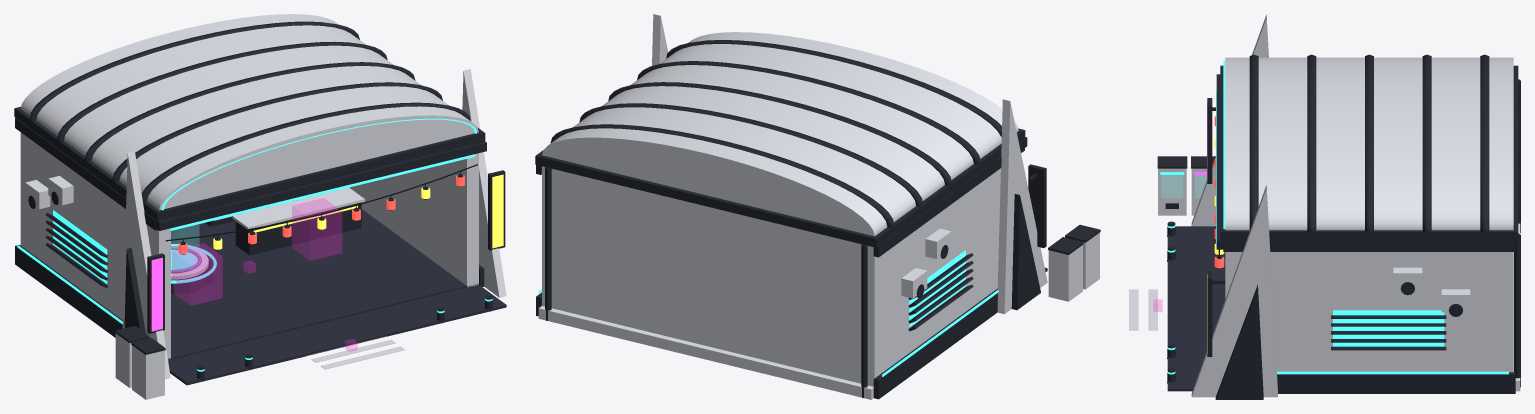
The model's file is AAT_UnitHangar.glb.
3 views of the same model, side by side, from view 1: azimuth 30°, elevation 25°; view 2: azimuth 150°, elevation 25°; view 3: azimuth 270°, elevation 25° (orthographic). The views are drawn at different scales.
Parts seen in each view (by area): view 1: UnitHangarDeco__pearl, Floor_Hangar__floor, UnitHangarDeco__graphite, Wall_HangarLeft__pearl, Wall_HangarRight__pearl, Floor_HangarApron__floor, Roof_Hangar__graphite, UnitHangarDeco__bio, Wall_ItemCounter__graphite, MK_Station_Units, MK_Station_Items, UnitHangarDeco__amber (+6 smaller); view 2: UnitHangarDeco__pearl, Wall_HangarBack__pearl, UnitHangarDeco__graphite, Wall_HangarLeft__pearl, Roof_Hangar__graphite, UnitHangarDeco__bio, Wall_HangarRight__pearl; view 3: UnitHangarDeco__pearl, UnitHangarDeco__graphite, Wall_HangarRight__pearl, Floor_HangarApron__floor, UnitHangarDeco__bio, Roof_Hangar__graphite, Wall_HangarBack__pearl, UnitHangarDeco__glass.
Boxes of the visible parts, box(x1,y1,x2,y2) form: UnitHangarDeco__pearl: box(20, 14, 506, 399); Floor_Hangar__floor: box(168, 209, 478, 359); UnitHangarDeco__graphite: box(15, 21, 505, 381); Wall_HangarLeft__pearl: box(21, 133, 170, 360); Wall_HangarRight__pearl: box(349, 153, 478, 287); Floor_HangarApron__floor: box(168, 284, 506, 385); Roof_Hangar__graphite: box(14, 106, 485, 221); UnitHangarDeco__bio: box(17, 118, 492, 371); Wall_ItemCounter__graphite: box(235, 202, 361, 255); MK_Station_Units: box(172, 243, 222, 305); MK_Station_Items: box(292, 198, 341, 260); UnitHangarDeco__amber: box(213, 174, 503, 249); UnitHangarDeco__pearl: box(538, 14, 1099, 399); Wall_HangarBack__pearl: box(542, 166, 881, 386); UnitHangarDeco__graphite: box(536, 40, 1100, 399); Wall_HangarLeft__pearl: box(867, 168, 1000, 385); Roof_Hangar__graphite: box(535, 128, 1025, 247); UnitHangarDeco__bio: box(538, 250, 998, 376); Wall_HangarRight__pearl: box(542, 166, 554, 305); UnitHangarDeco__pearl: box(1129, 14, 1520, 397); UnitHangarDeco__graphite: box(1157, 54, 1520, 399); Wall_HangarRight__pearl: box(1225, 252, 1513, 371); Floor_HangarApron__floor: box(1167, 226, 1225, 391); UnitHangarDeco__bio: box(1160, 60, 1508, 374); Roof_Hangar__graphite: box(1220, 65, 1518, 240); Wall_HangarBack__pearl: box(1499, 252, 1513, 372); UnitHangarDeco__glass: box(1161, 175, 1206, 197).
Bounding box in the file's own units: 48 × 24 × 40.75.
